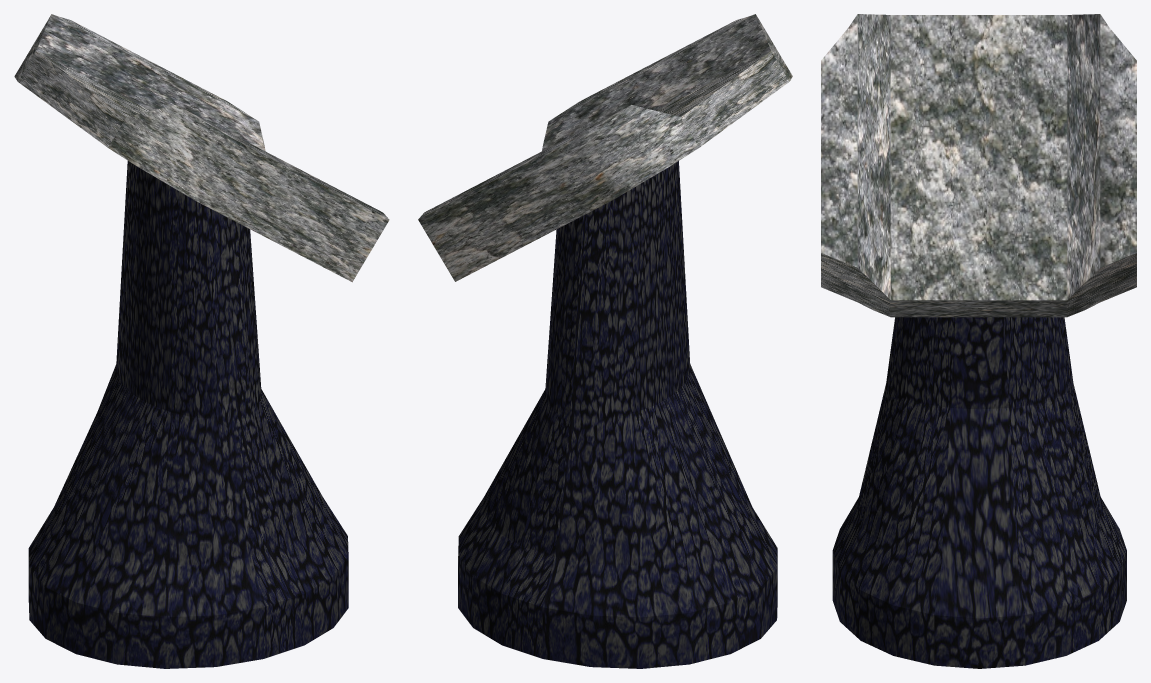
Rendered from Book pedestal.fbx.
The picture shows the model from 3 angles, left to right: view 1: azimuth 30°, elevation 25°; view 2: azimuth 150°, elevation 25°; view 3: azimuth 270°, elevation 25°; orthographic projection. The views are drawn at different scales.
Parts seen in each view (by area): view 1: pCylinder10, pCube14; view 2: pCylinder10, pCube14; view 3: pCube14, pCylinder10.
Boxes of the visible parts, x1,y1,x2,y2 form: pCylinder10: (28,161,348,668); pCube14: (14,14,389,282); pCylinder10: (458,161,777,668); pCube14: (418,14,792,281); pCube14: (821,14,1136,317); pCylinder10: (832,317,1126,668).
Size of the model in its own units: 1.74 by 3.26 by 1.7.
Materials: 3 (3 with a texture image).
